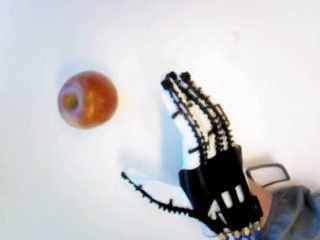apple: (55, 71, 119, 129)
hand: (121, 71, 260, 236)
